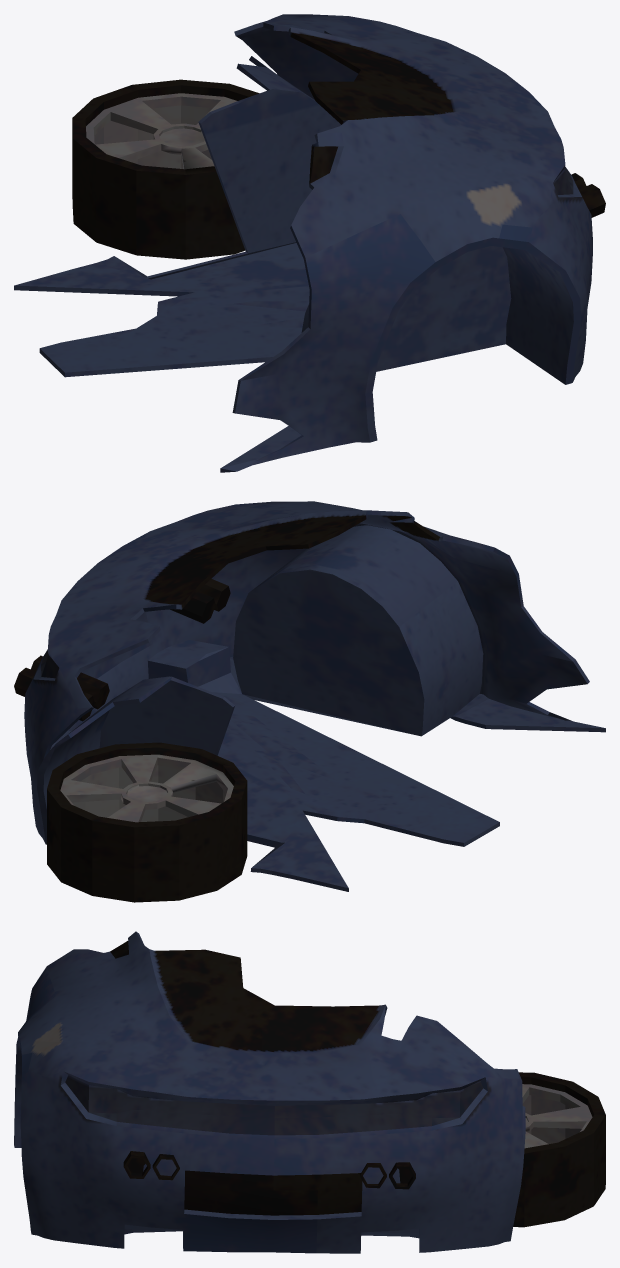
File: P_CAR_WRECKED SEDAN3.fbx
3 renders of one model, top to bottom at view 1: azimuth 30°, elevation 25°; view 2: azimuth 150°, elevation 25°; view 3: azimuth 270°, elevation 25°, orthographic. The views are drawn at different scales.
Parts seen in each view (by area): view 1: Car_Wrecked_Sedan_3; view 2: Car_Wrecked_Sedan_3; view 3: Car_Wrecked_Sedan_3.
Part boxes in pixels (<box>): Car_Wrecked_Sedan_3: <box>14,14,605,472</box>; Car_Wrecked_Sedan_3: <box>14,501,605,902</box>; Car_Wrecked_Sedan_3: <box>14,931,605,1253</box>.
Size of the model in its own units: 193 by 105 by 245.
